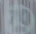Speed limit: (1, 1, 35, 32)
